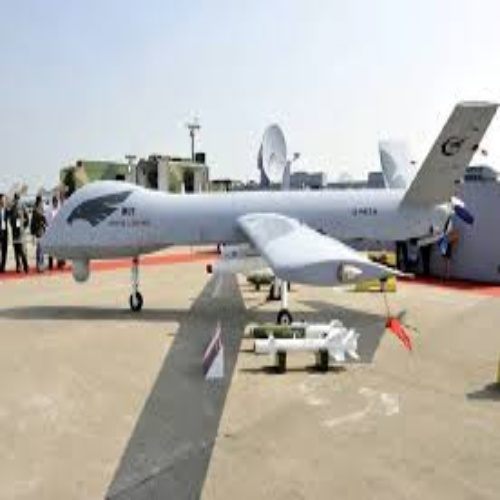uav: (38, 99, 500, 323)
